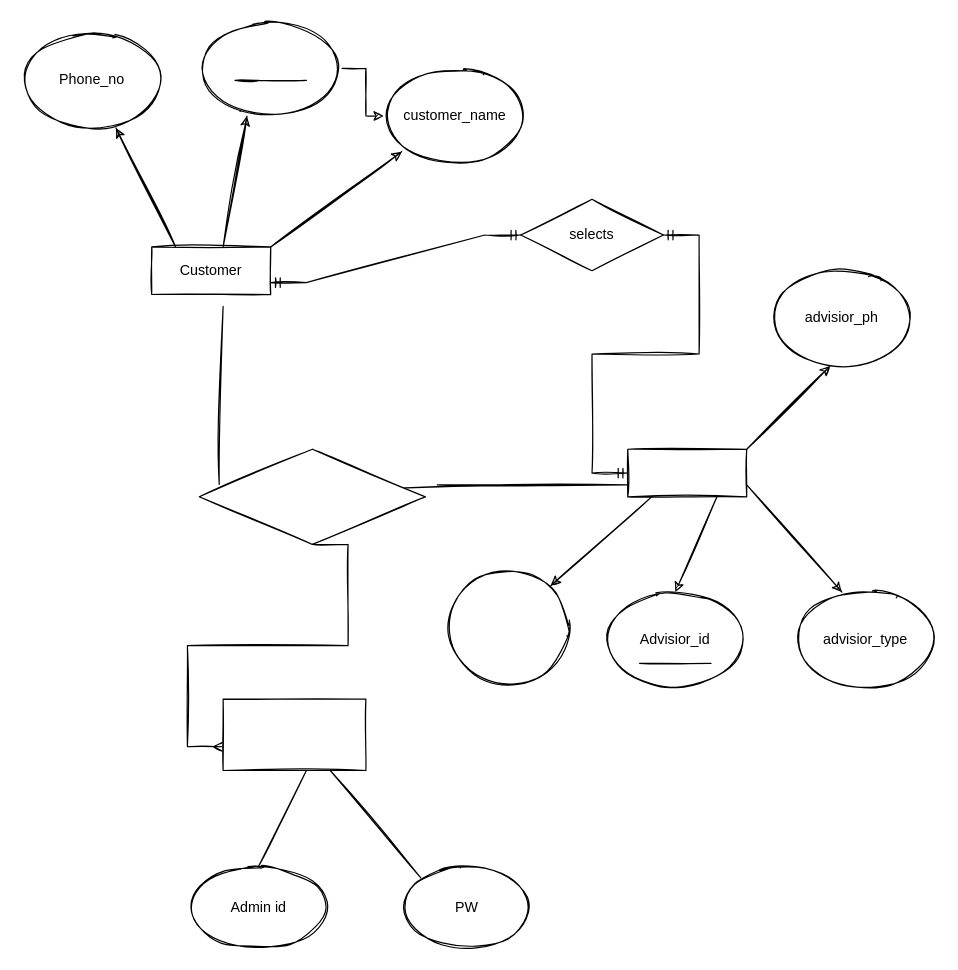
Some shapes in this 958 by 970 pixel diagram are drawn without their labels. The shapes that lost their labels are listed below. From the top down, each one's centre as x and y in pixels, then its label:
At point (270, 68): "Customer_id".
At point (687, 472): "Advisior".
At point (311, 496): "maintains".
At point (508, 627): "advisior_name".
At point (294, 734): "Admin".
